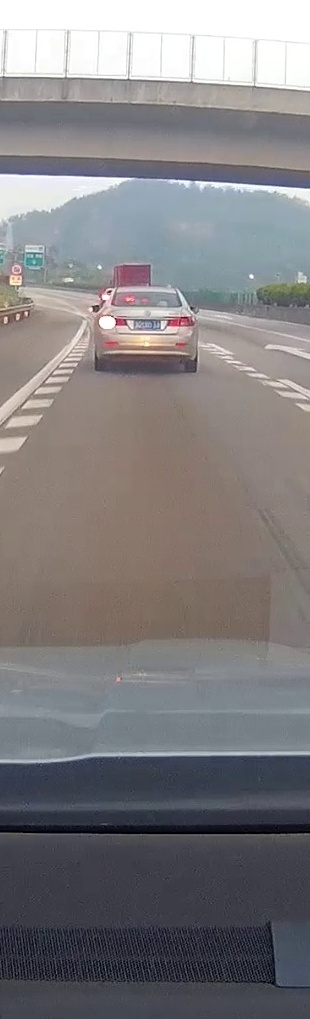L_light: (98, 315, 128, 326)
R_light: (167, 316, 196, 327)
T_light: (138, 305, 156, 307)
day-left: (94, 286, 198, 373)
